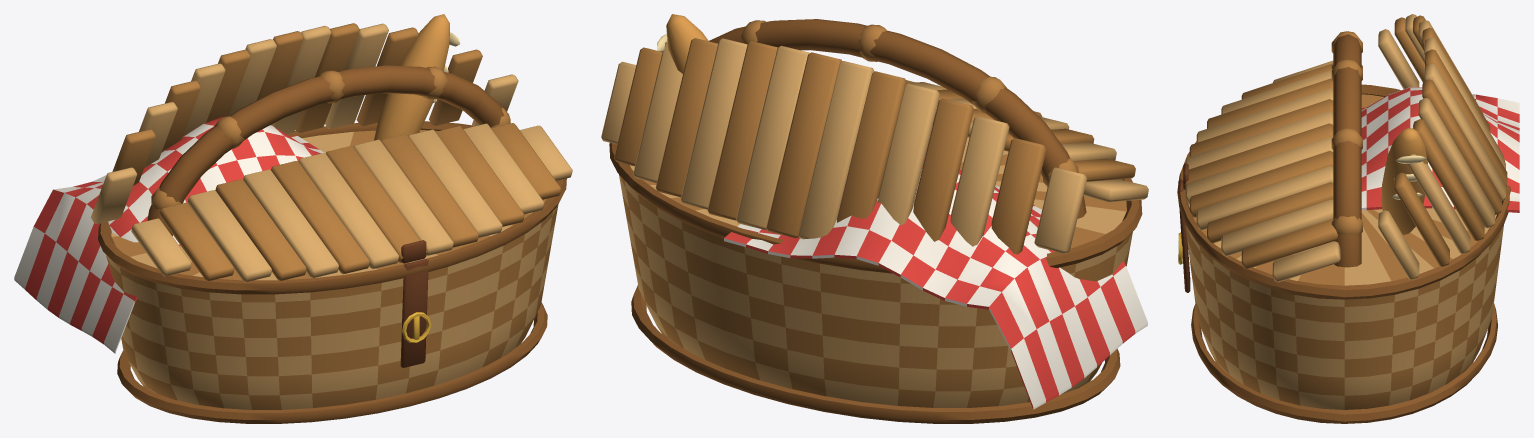
Rendered from picnic_basket.glb.
3 views of the same model, side by side, from view 1: azimuth 30°, elevation 25°; view 2: azimuth 150°, elevation 25°; view 3: azimuth 270°, elevation 25° (orthographic). The views are drawn at different scales.
Visible parts, largest first — view 1: PicnicBasket; view 2: PicnicBasket; view 3: PicnicBasket.
Part boxes in pixels (left/top/right/bottom): PicnicBasket: left=14, top=14, right=572, bottom=423; PicnicBasket: left=601, top=14, right=1148, bottom=423; PicnicBasket: left=1177, top=14, right=1519, bottom=423.
Bounding box in the file's own units: 9.2 × 5.66 × 6.26.
